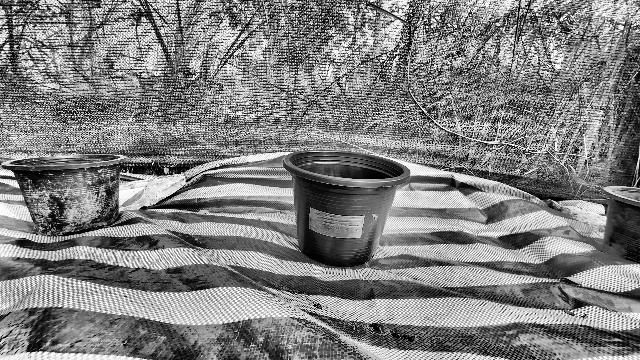pot: (282, 151, 411, 267), (1, 153, 127, 236), (601, 186, 640, 263)
